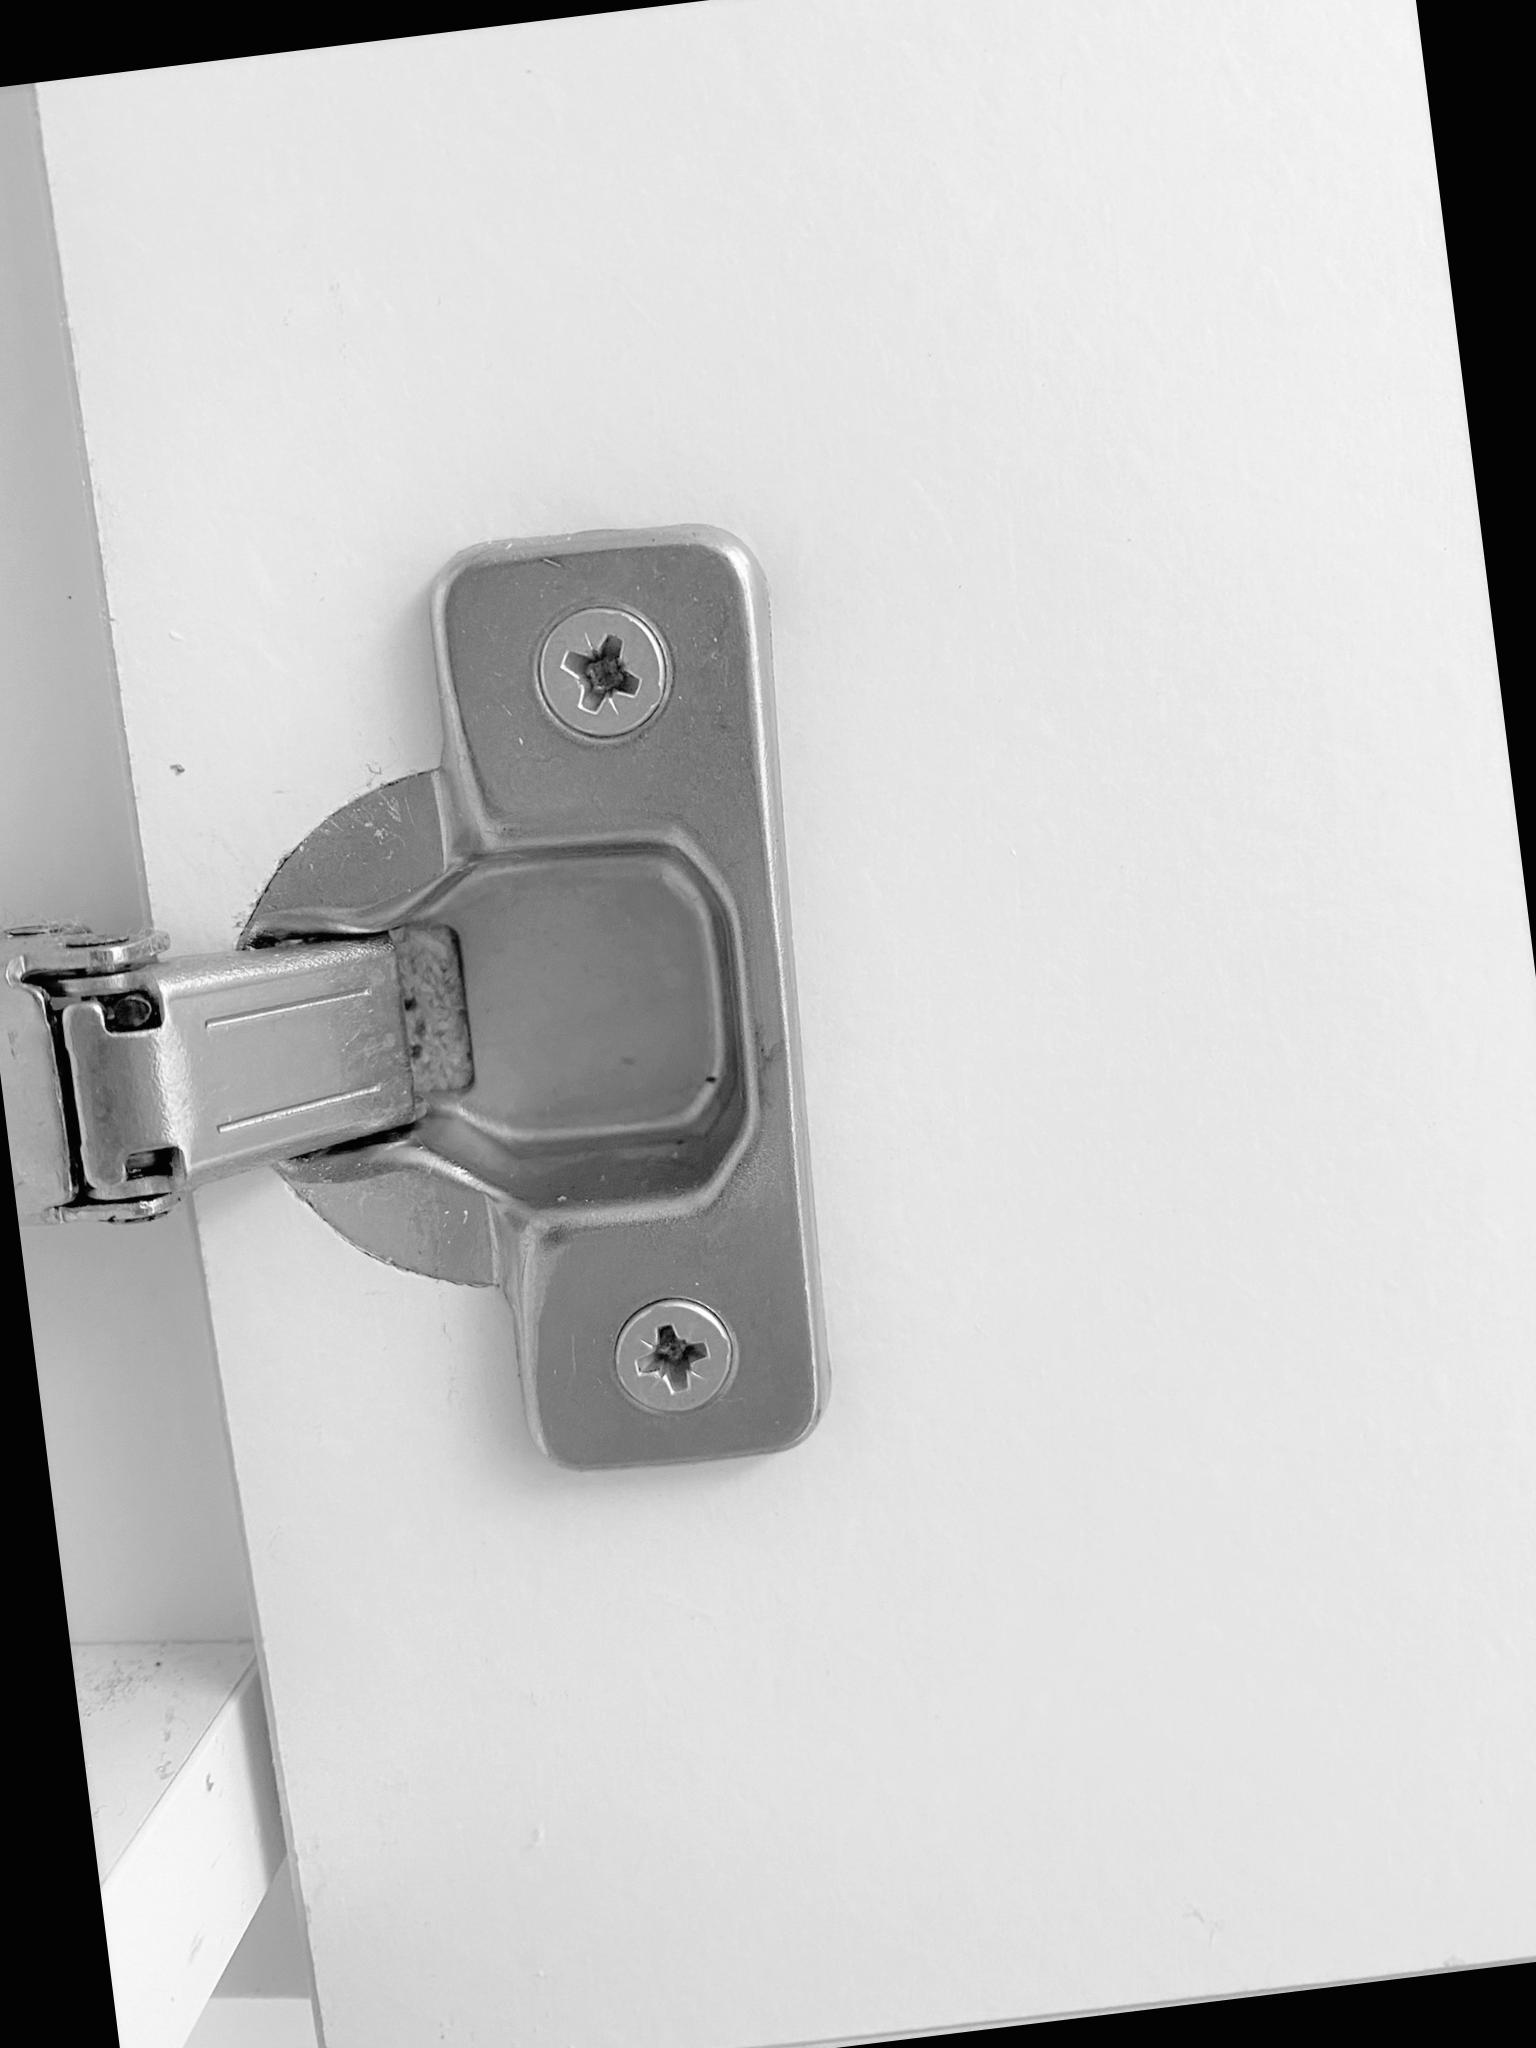philips-PZ: (528, 593, 678, 747), (603, 1287, 744, 1427)
